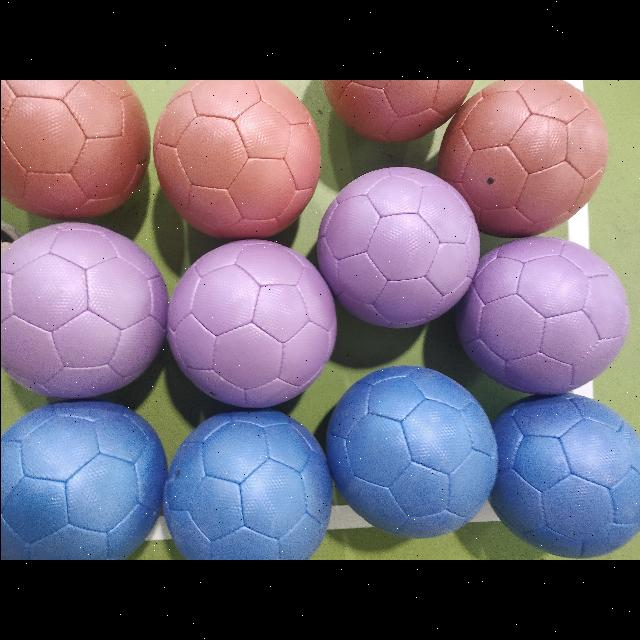B: (327, 367, 497, 538), (0, 400, 166, 560), (163, 410, 331, 560), (490, 394, 640, 558)
P: (0, 223, 168, 397), (168, 238, 336, 406), (456, 237, 628, 393), (316, 167, 480, 327)
R: (153, 80, 319, 238), (438, 80, 606, 236), (0, 80, 150, 218), (314, 80, 474, 136)
